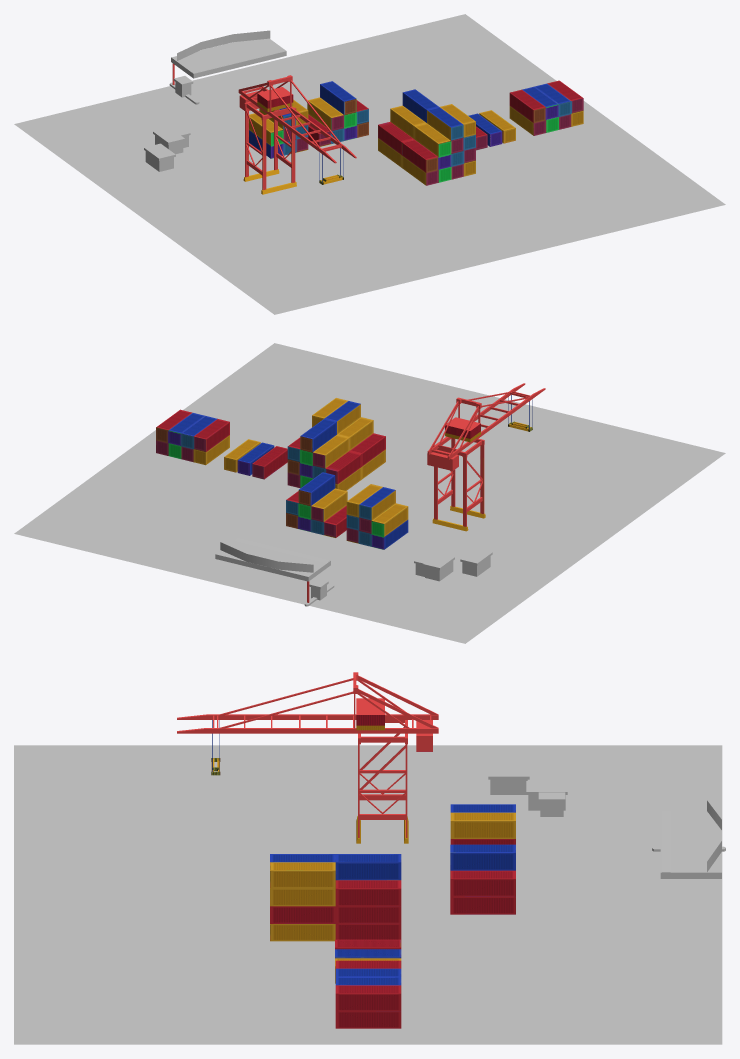
Rendered from Containers.fbx.
3 renders of one model, top to bottom at view 1: azimuth 30°, elevation 25°; view 2: azimuth 150°, elevation 25°; view 3: azimuth 270°, elevation 25°, orthographic. The views are drawn at different scales.
Parts seen in each view (by area): view 1: Floor, Container_6, Container_crane, Container_2, Container_7, Container_gate2, Container_8, Container_gate1, Container_gate9, Container_gate8, Container_4, Container_3; view 2: Floor, Container_6, Container_crane, Container_8, Container_2, Container_7, Container_gate2, Container_gate9, Container_gate1, Container_5, Container_gate8, Container_3 (+1 smaller); view 3: Floor, Container_6, Container_crane, Container_7, Container_2, Container_gate2, Container_8, Container_gate9, Container_gate8, Container_5, Container_3.
Part boxes in pixels (x1=…): Floor: x1=14, y1=14, x2=725, y2=314; Container_6: x1=378, y1=89, x2=475, y2=185; Container_crane: x1=238, y1=75, x2=356, y2=194; Container_2: x1=509, y1=80, x2=583, y2=135; Container_7: x1=307, y1=81, x2=368, y2=146; Container_gate2: x1=171, y1=38, x2=286, y2=78; Container_8: x1=249, y1=99, x2=308, y2=158; Container_gate1: x1=177, y1=30, x2=270, y2=60; Container_gate9: x1=153, y1=126, x2=190, y2=154; Container_gate8: x1=144, y1=143, x2=175, y2=171; Container_4: x1=479, y1=110, x2=515, y2=143; Container_3: x1=468, y1=113, x2=502, y2=146; Floor: x1=14, y1=343, x2=725, y2=643; Container_6: x1=287, y1=398, x2=385, y2=490; Container_crane: x1=427, y1=383, x2=545, y2=531; Container_8: x1=346, y1=484, x2=408, y2=549; Container_2: x1=156, y1=409, x2=229, y2=465; Container_7: x1=286, y1=472, x2=347, y2=537; Container_gate2: x1=215, y1=538, x2=330, y2=581; Container_gate9: x1=414, y1=553, x2=454, y2=581; Container_gate1: x1=220, y1=542, x2=313, y2=572; Container_5: x1=252, y1=446, x2=287, y2=479; Container_gate8: x1=460, y1=548, x2=492, y2=576; Container_3: x1=237, y1=442, x2=274, y2=475; Floor: x1=14, y1=745, x2=722, y2=1044; Container_6: x1=270, y1=854, x2=401, y2=941; Container_crane: x1=177, y1=672, x2=438, y2=843; Container_7: x1=450, y1=844, x2=515, y2=914; Container_2: x1=335, y1=960, x2=401, y2=1028; Container_gate2: x1=660, y1=810, x2=721, y2=878; Container_8: x1=450, y1=804, x2=515, y2=844; Container_gate9: x1=526, y1=781, x2=567, y2=816; Container_gate8: x1=488, y1=765, x2=529, y2=794; Container_5: x1=335, y1=939, x2=401, y2=949; Container_3: x1=335, y1=949, x2=401, y2=958.
Size of the model in its own units: 11884 by 2832 by 11947.
